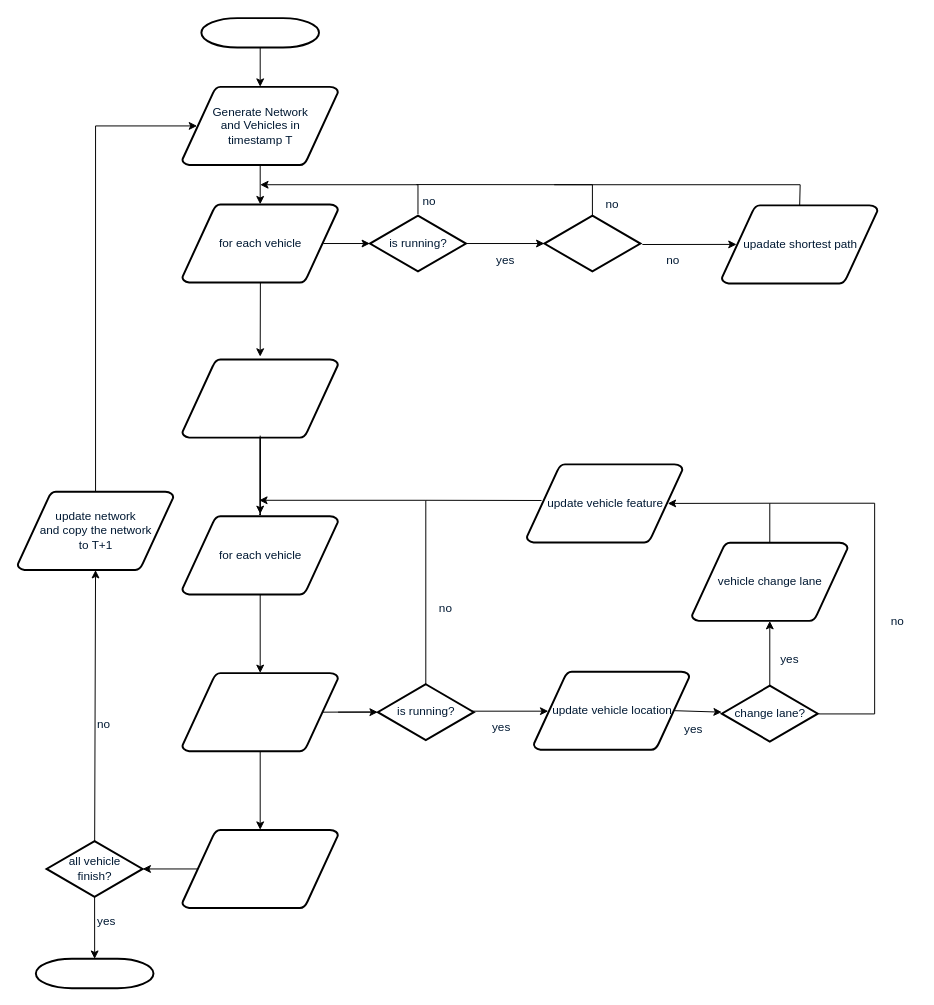
This 934x1005 diagram has some shape labels left out. The shapes that lost their labels are listed below. From the top down, each one's box as (x1, y1, x2, y2) in pixels, then its label:
(200, 17, 319, 48): start
(543, 214, 641, 272): time gap?
(181, 358, 339, 438): update lane feature
(181, 671, 339, 752): calculate time value
(181, 828, 339, 909): update network
(34, 957, 154, 989): end
